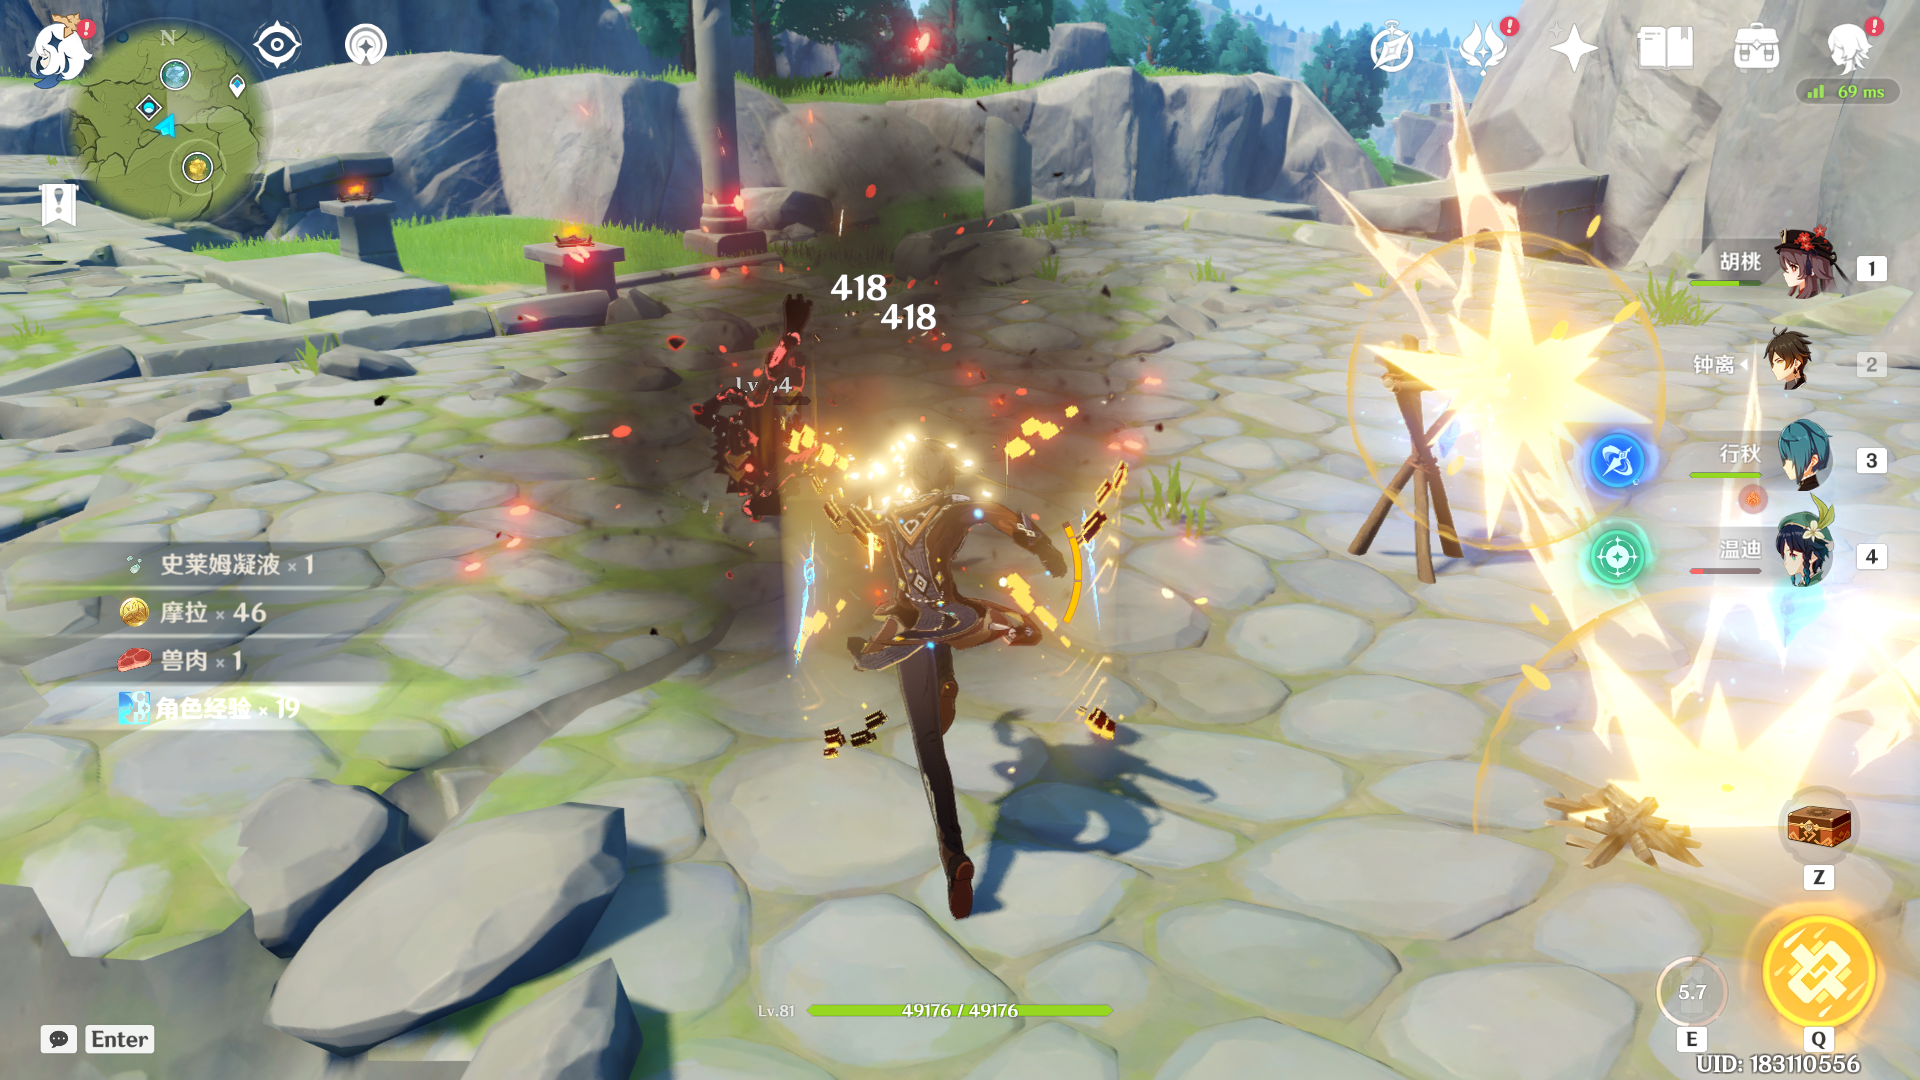character: (804, 427, 1109, 924)
